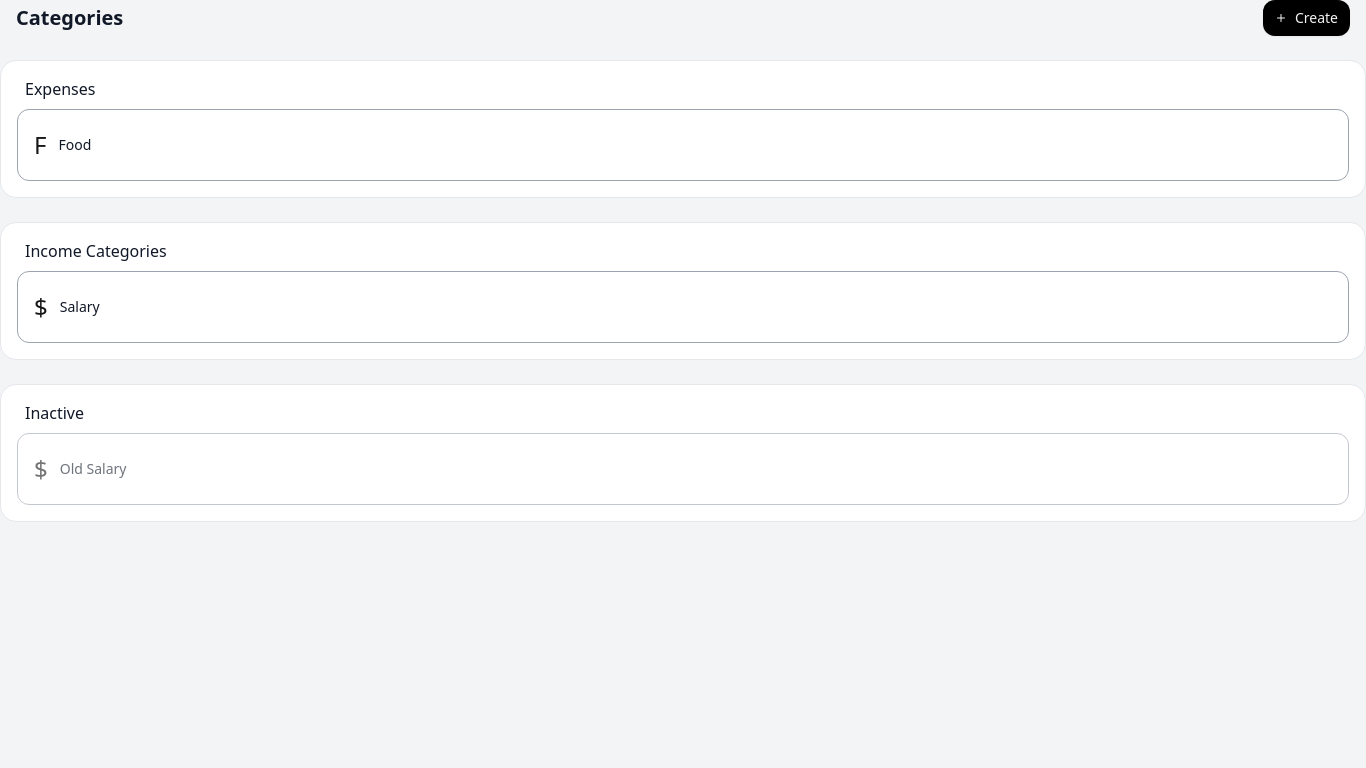
Scenario: CategoriesPage income category regressions › does not wrap active categories in swipe-to-disable cards, but retains inactive activation
The image size is (1366, 768).
Step 1. Click the button "F Food" → (75, 144), box [17, 109, 1349, 181]
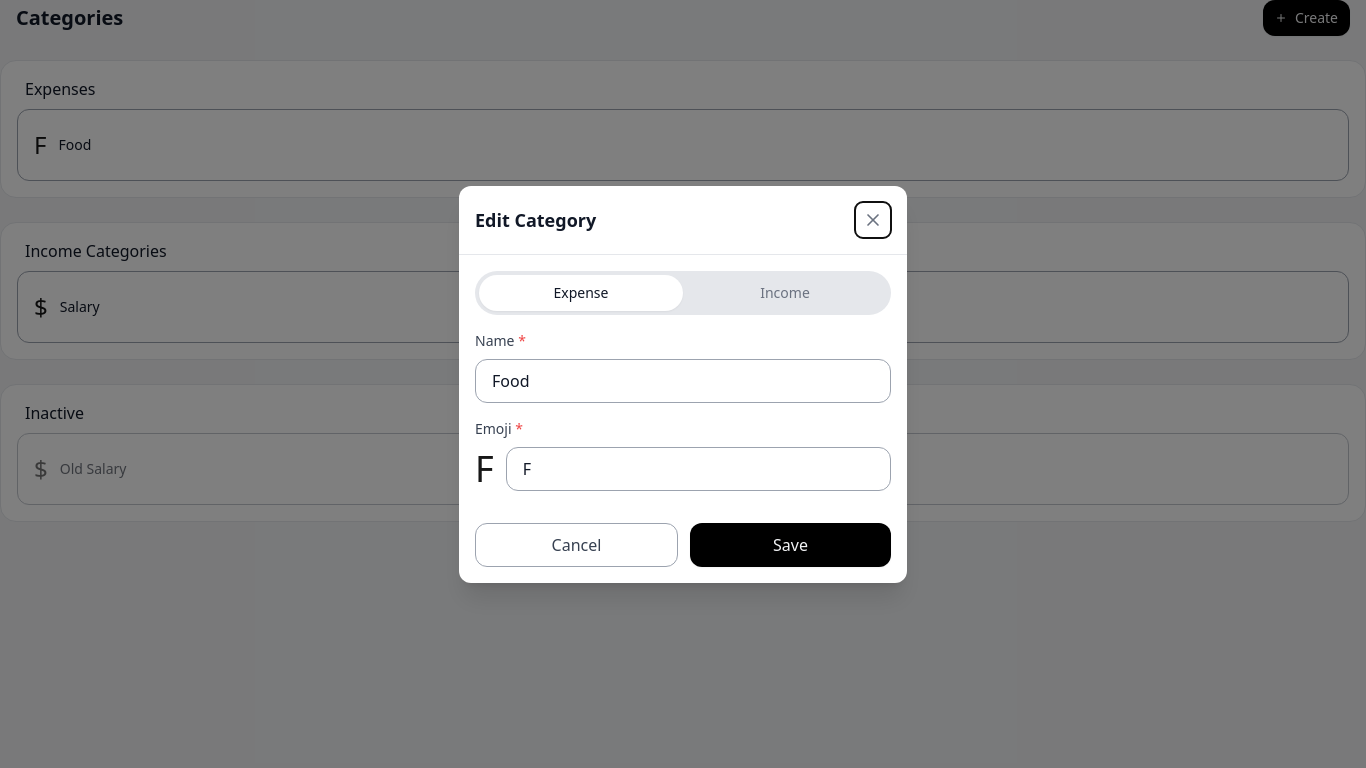
Expected: the dialog "Edit Category" is shown
